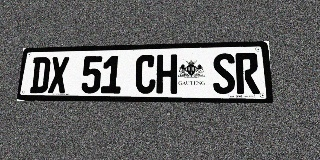1: (101, 55, 122, 93)
5: (81, 56, 102, 93)
C: (135, 55, 156, 94)
D: (29, 57, 51, 93)
H: (156, 54, 177, 94)
R: (235, 53, 260, 94)
S: (212, 53, 236, 94)
X: (48, 57, 69, 93)
